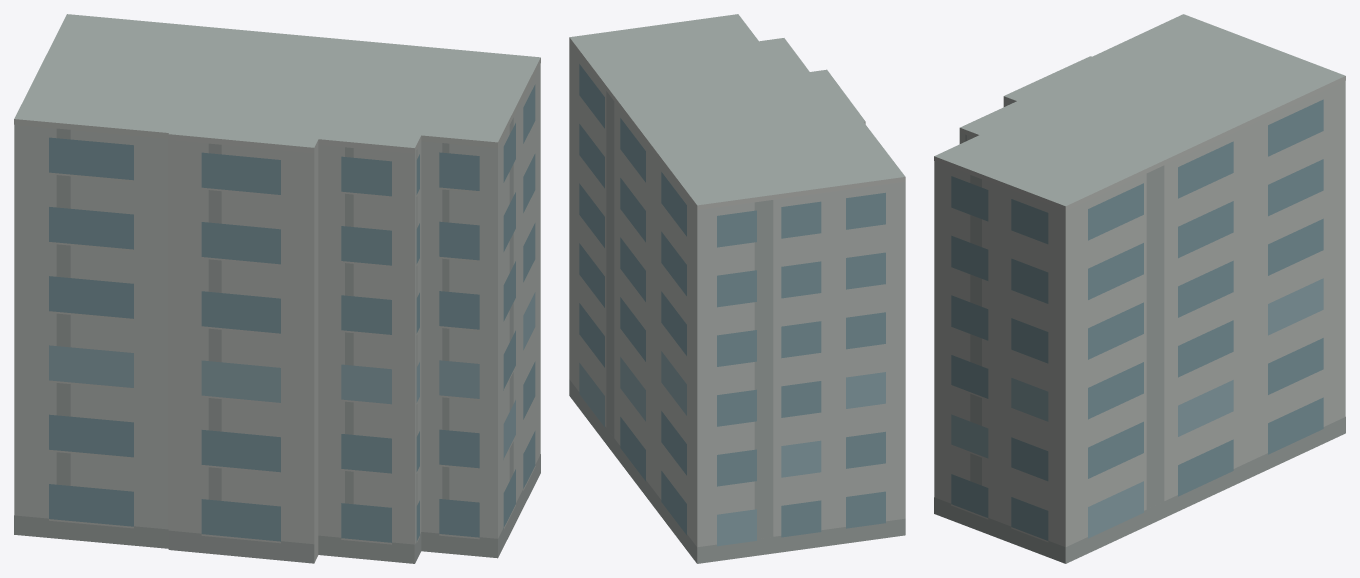
Rendered from survey-upis-32958397.glb.
The picture shows the model from 3 angles, left to right: view 1: azimuth 30°, elevation 25°; view 2: azimuth 150°, elevation 25°; view 3: azimuth 270°, elevation 25°; orthographic projection. The views are drawn at different scales.
Parts seen in each view (by area): view 1: survey-upis-32958397.tmp; view 2: survey-upis-32958397.tmp; view 3: survey-upis-32958397.tmp.
Part boxes in pixels (x1,y1,x2,y2): survey-upis-32958397.tmp: [14, 14, 540, 563]; survey-upis-32958397.tmp: [569, 14, 905, 563]; survey-upis-32958397.tmp: [934, 14, 1345, 563].
Bounding box in the file's own units: 20.6 × 17.85 × 18.63.
